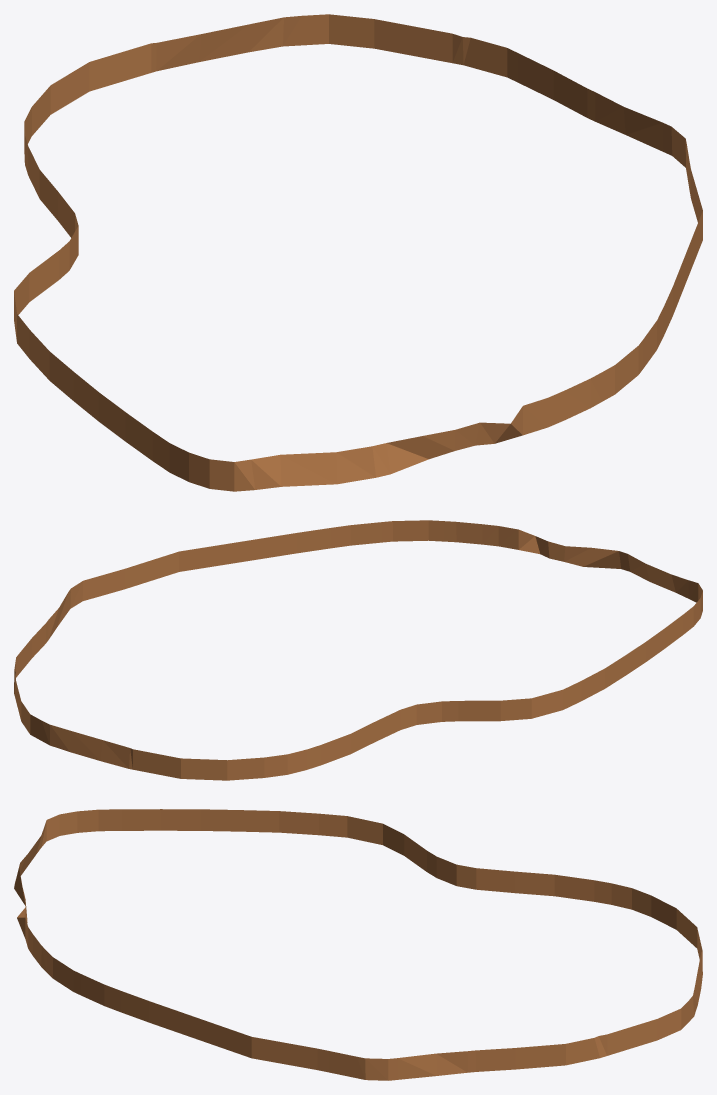
Rendered from OutSideColliderDesert.FBX.
The picture shows the model from 3 angles, top to bottom: view 1: azimuth 30°, elevation 25°; view 2: azimuth 150°, elevation 25°; view 3: azimuth 270°, elevation 25°; orthographic projection. The views are drawn at different scales.
Parts seen in each view (by area): view 1: Object; view 2: Object; view 3: Object.
Part boxes in pixels (x1=…): Object: x1=14, y1=14, x2=702, y2=491; Object: x1=14, y1=520, x2=702, y2=780; Object: x1=14, y1=809, x2=702, y2=1080.
Bounding box in the file's own units: 29375 × 1261 × 34205.
